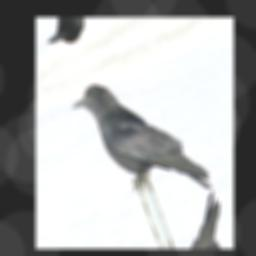Crow: (66, 48, 215, 237)
